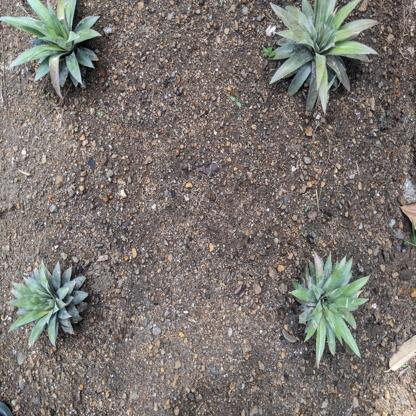pineapple: (266, 1, 378, 121), (289, 248, 372, 371), (1, 1, 101, 103), (6, 257, 91, 350)
